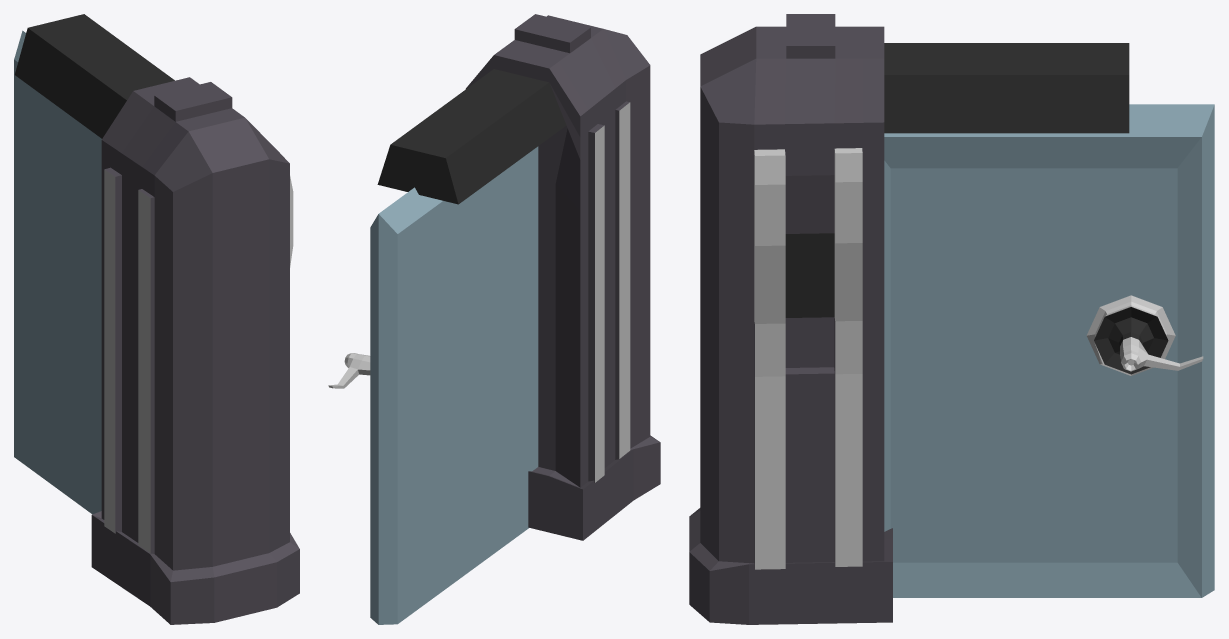
The model's file is door_2.fbx.
3 views of the same model, side by side, from view 1: azimuth 30°, elevation 25°; view 2: azimuth 150°, elevation 25°; view 3: azimuth 270°, elevation 25° (orthographic). The views are drawn at different scales.
Parts seen in each view (by area): view 1: Cube, Plane; view 2: Cube, Plane, Circle; view 3: Plane, Cube, Circle.
Boxes of the visible parts, bbox=[...] form: Cube: bbox=[15, 14, 299, 624]; Plane: bbox=[14, 30, 101, 514]; Cube: bbox=[377, 14, 660, 540]; Plane: bbox=[370, 146, 538, 624]; Circle: bbox=[328, 353, 370, 388]; Plane: bbox=[884, 104, 1214, 597]; Cube: bbox=[689, 14, 1129, 624]; Circle: bbox=[1086, 295, 1203, 375].
Bounding box in the file's own units: 113 × 367 × 313.
